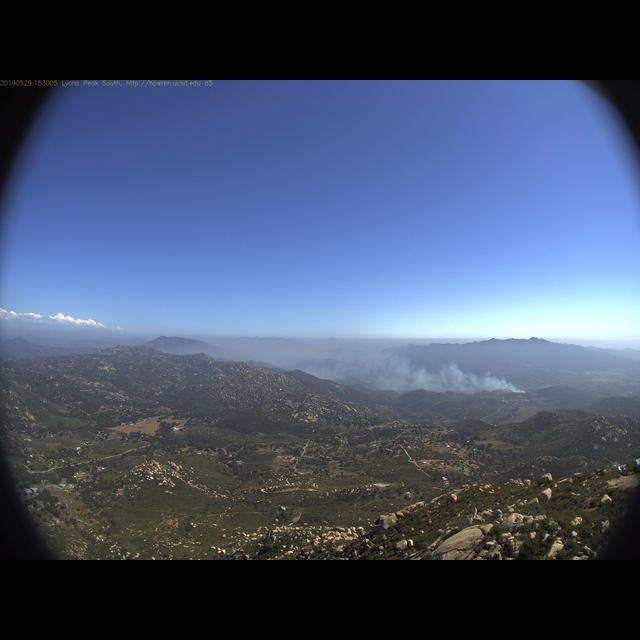Smoke: (272, 319, 523, 398)
